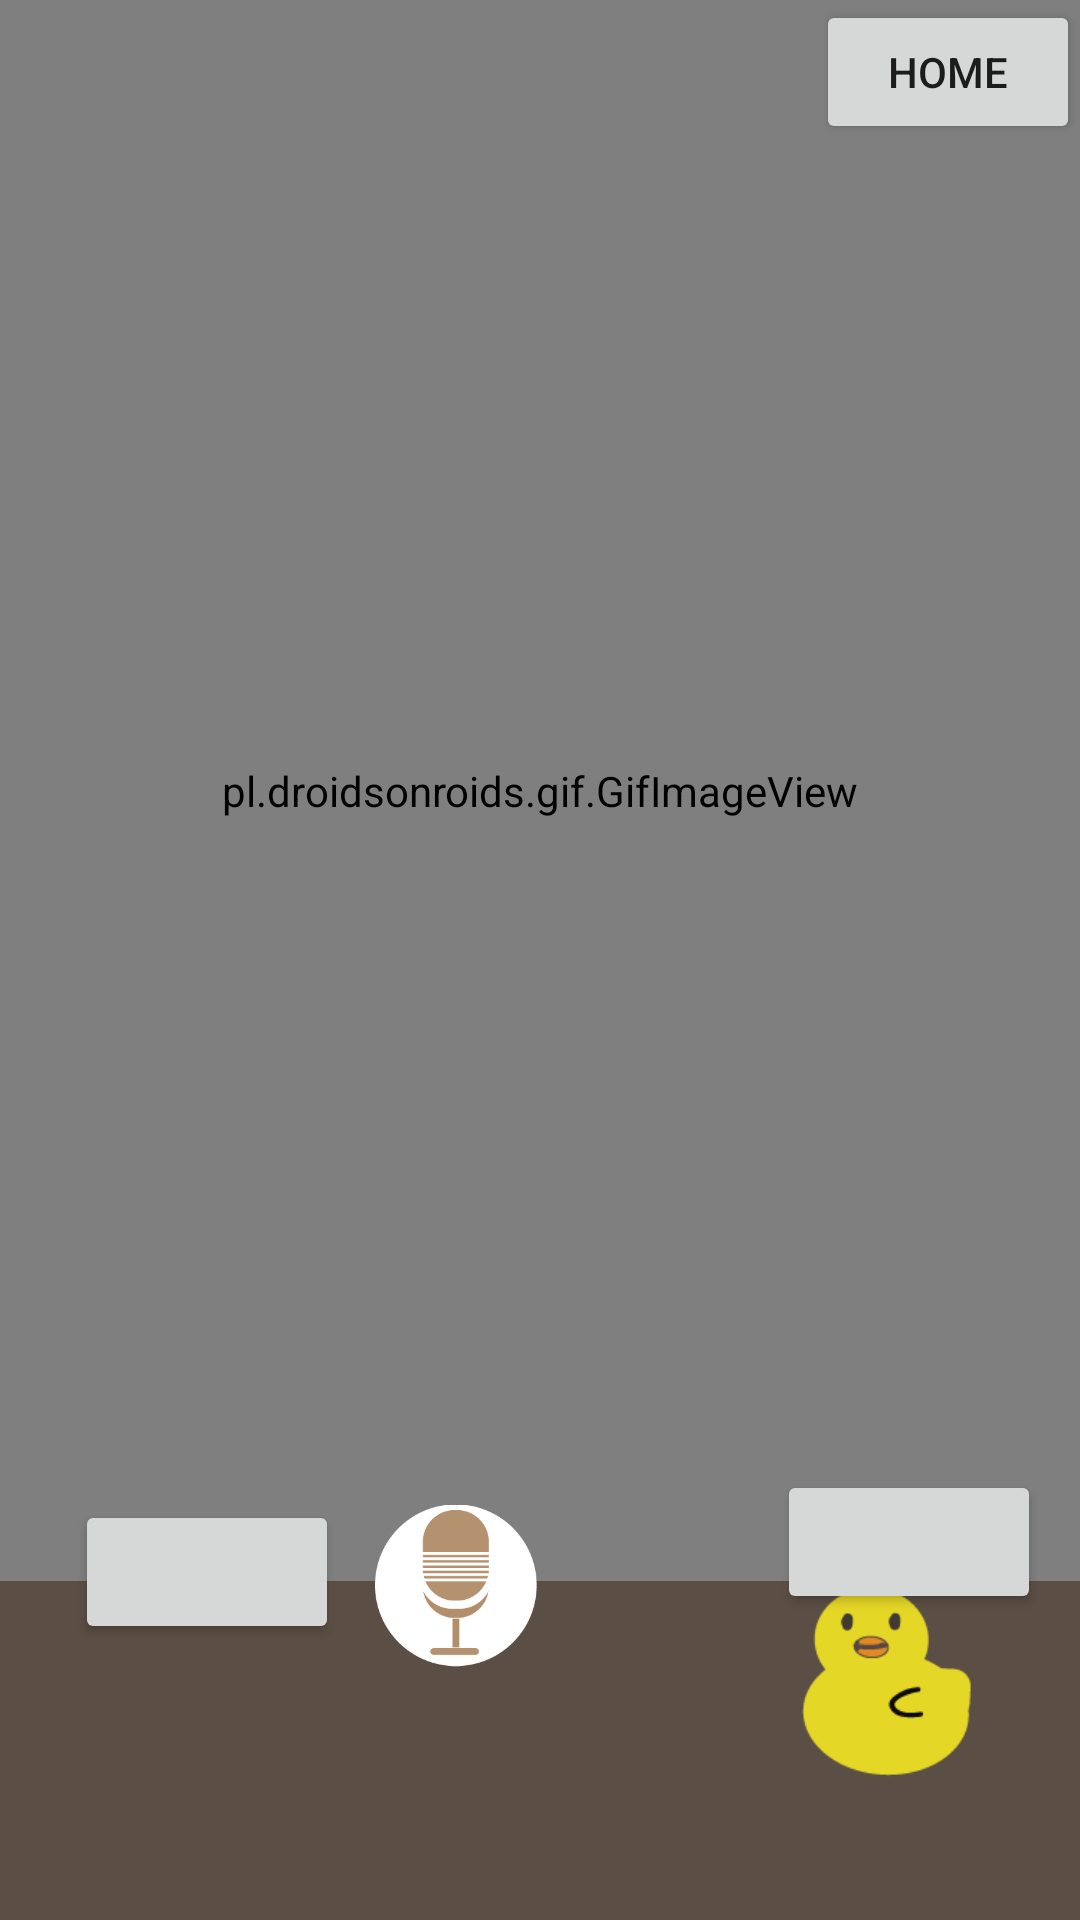

Named icons in this screenshot (1080px x 1920px) and their centers, [x,y]:
mic: [456,1585]
